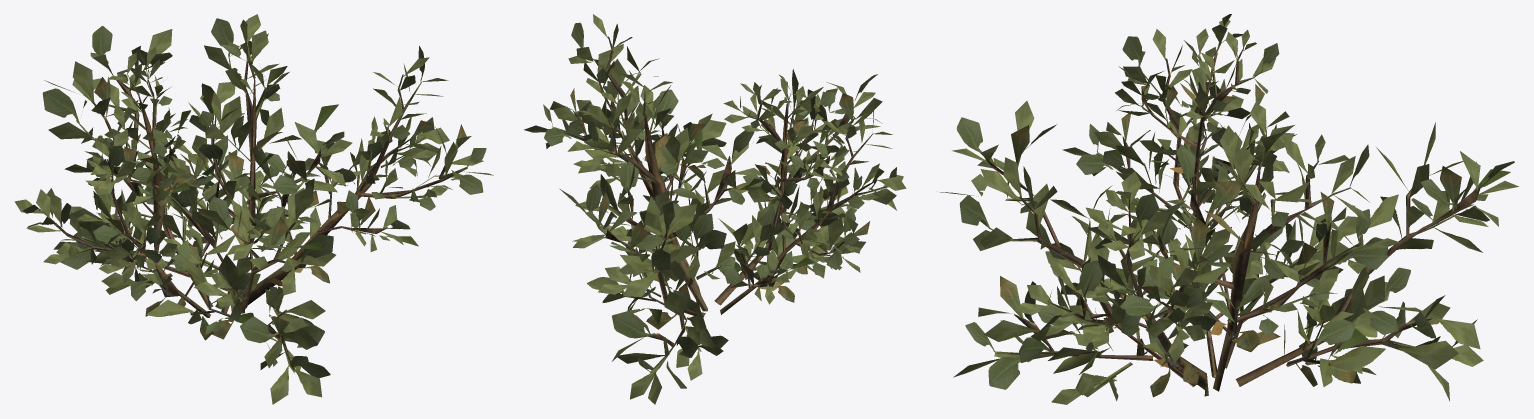
The model's file is shrub_b-KurSvOgY.glb.
3 views of the same model, side by side, from view 1: azimuth 30°, elevation 25°; view 2: azimuth 150°, elevation 25°; view 3: azimuth 270°, elevation 25° (orthographic). The views are drawn at different scales.
Visible parts, largest first — view 1: shrub_b; view 2: shrub_b; view 3: shrub_b.
Part boxes in pixels (x1=…): shrub_b: x1=14, y1=14, x2=493, y2=404; shrub_b: x1=524, y1=14, x2=906, y2=404; shrub_b: x1=940, y1=14, x2=1518, y2=404.
Size of the model in its own units: 1.08 by 0.8 by 1.21.
Materials: 1 (1 with a texture image).
